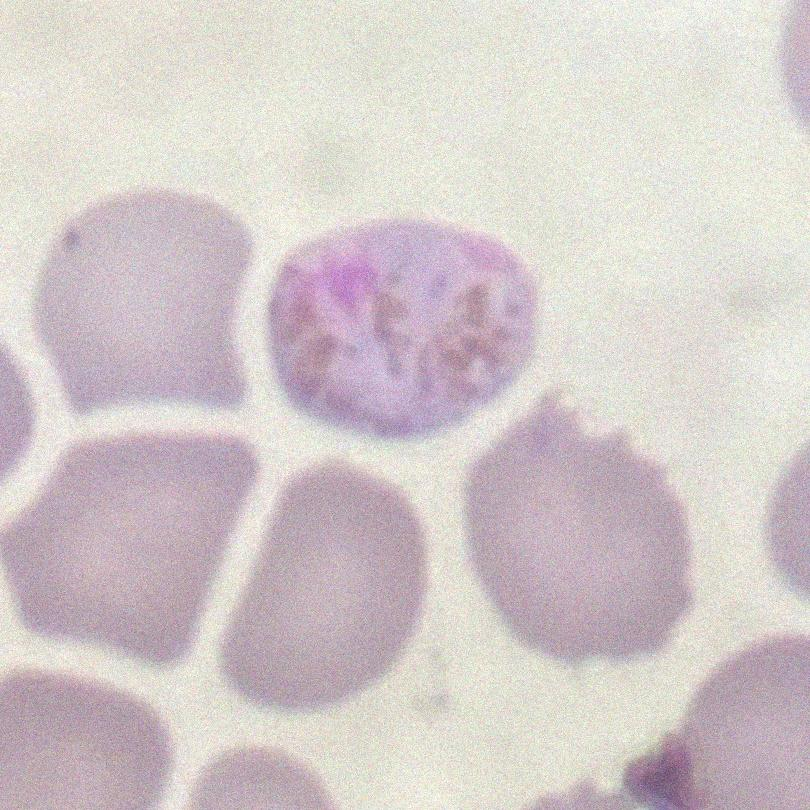Infected: (264, 219, 537, 444)
Uninfected: (460, 401, 688, 663), (8, 431, 261, 666), (222, 459, 433, 715), (32, 183, 251, 420)
